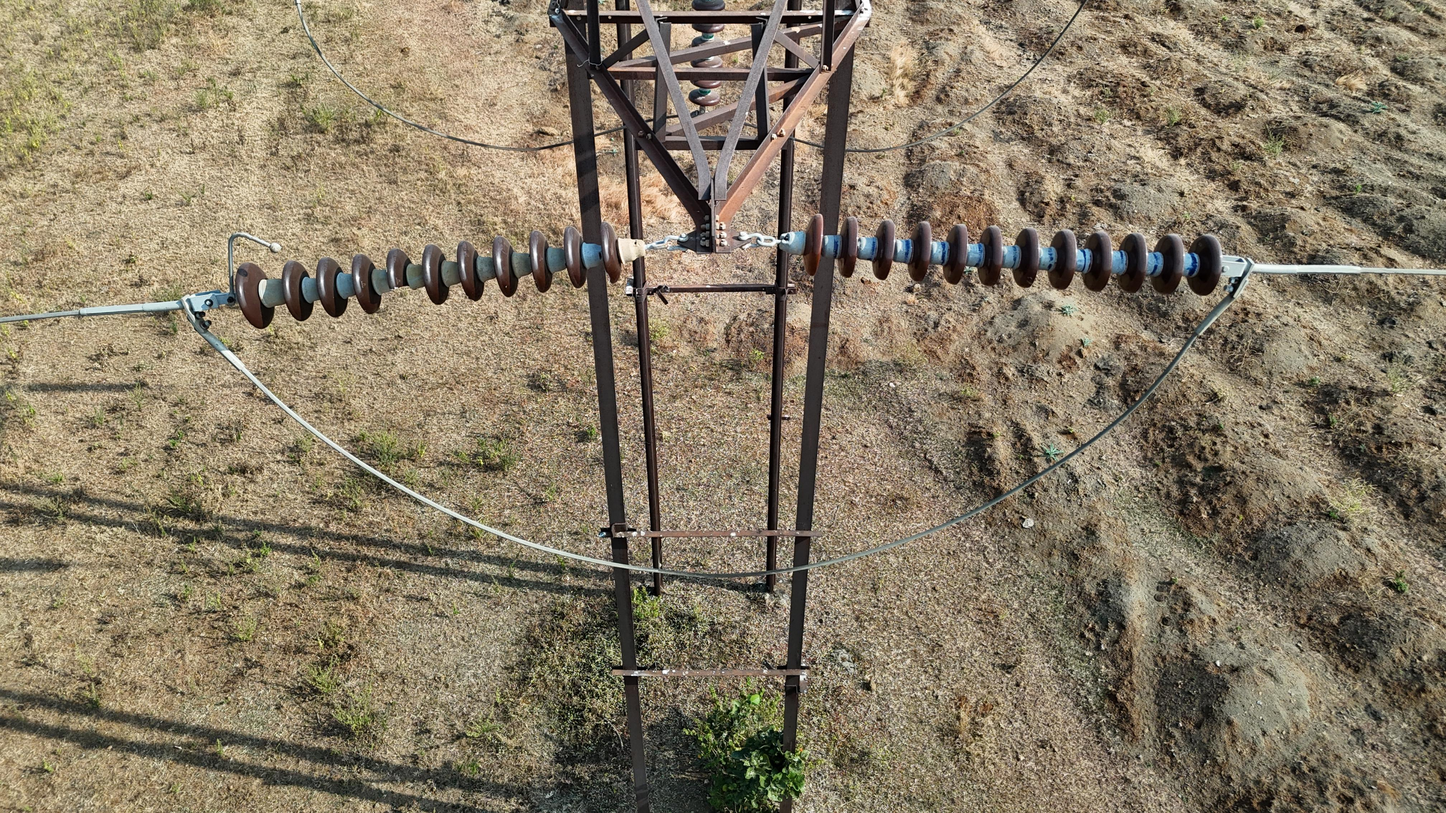broken_insulator: (384, 247, 415, 310), (599, 221, 623, 285)
